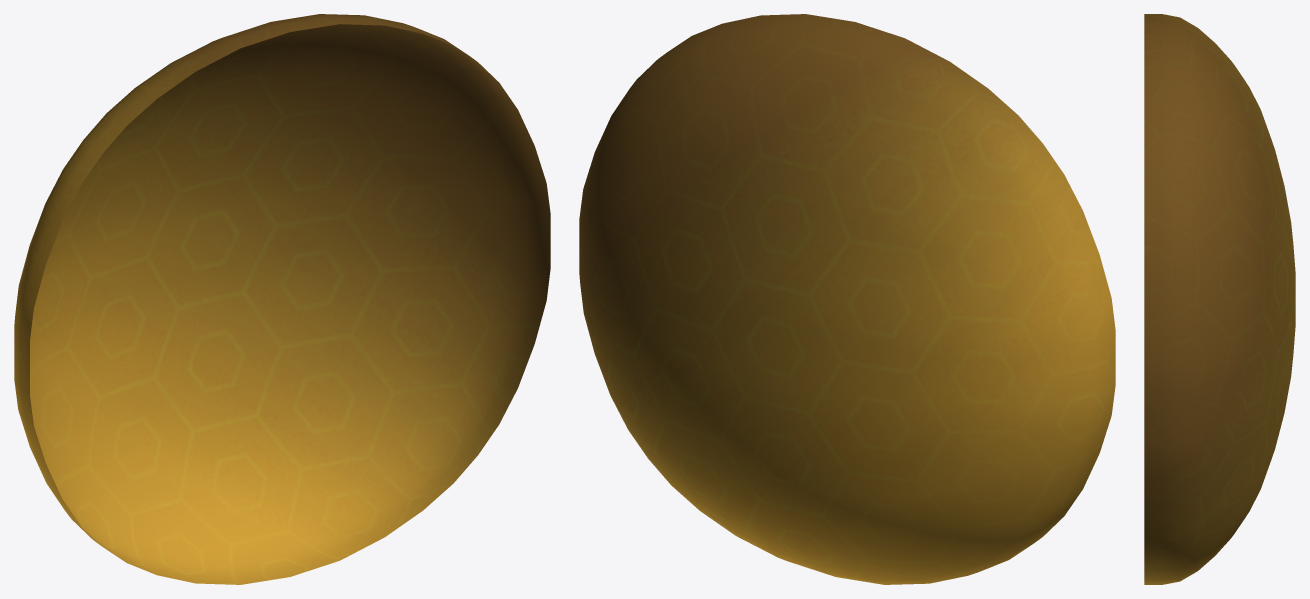
Rendered from portal.obj.
The picture shows the model from 3 angles, left to right: view 1: azimuth 30°, elevation 25°; view 2: azimuth 150°, elevation 25°; view 3: azimuth 270°, elevation 25°; orthographic projection. The views are drawn at different scales.
Parts seen in each view (by area): view 1: Default; view 2: Default; view 3: Default.
Boxes of the visible parts, x1=… form: Default: x1=14, y1=14, x2=550, y2=584; Default: x1=579, y1=14, x2=1115, y2=584; Default: x1=1144, y1=14, x2=1295, y2=584.
Bounding box in the file's own units: 0.9957 × 0.9957 × 0.2663.
Materials: 1 (1 with a texture image).
